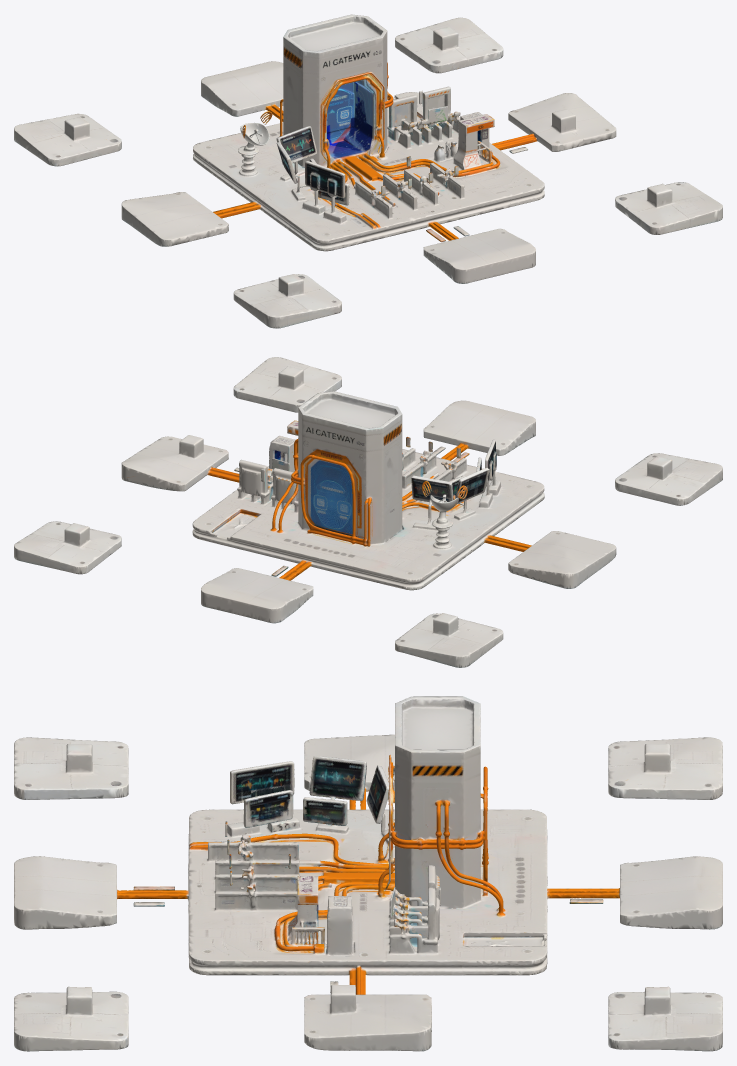
File: AIGATEWAY.glb
The picture shows the model from 3 angles, top to bottom: view 1: azimuth 30°, elevation 25°; view 2: azimuth 150°, elevation 25°; view 3: azimuth 270°, elevation 25°; orthographic projection. The views are drawn at different scales.
Size of the model in its own units: 1.9 by 0.5174 by 1.9.
Materials: 1 (1 with a texture image).
